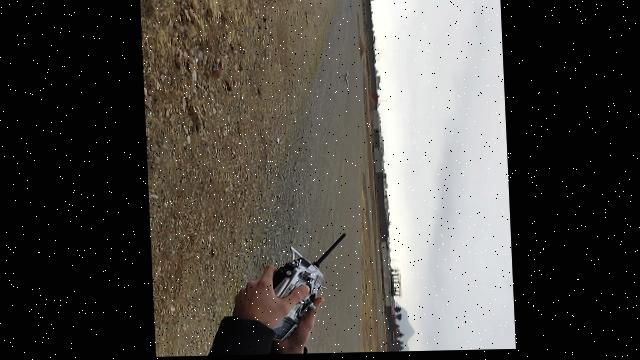drone: (337, 70, 351, 90)
